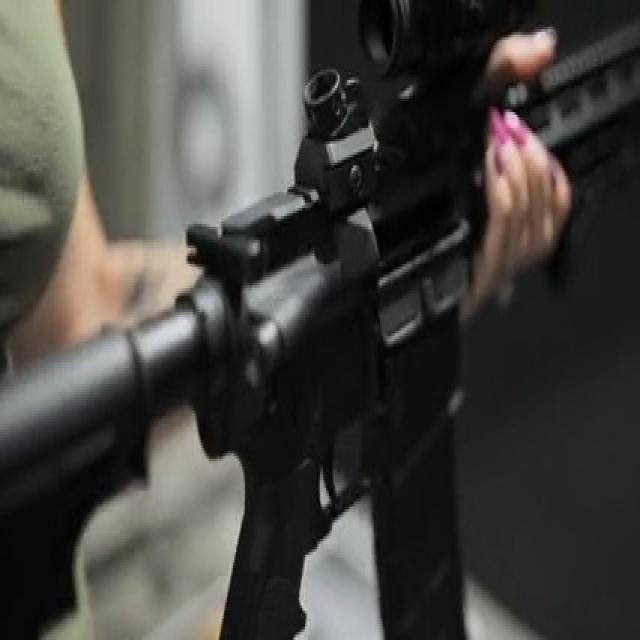Gun_Holder: (27, 2, 638, 640)
